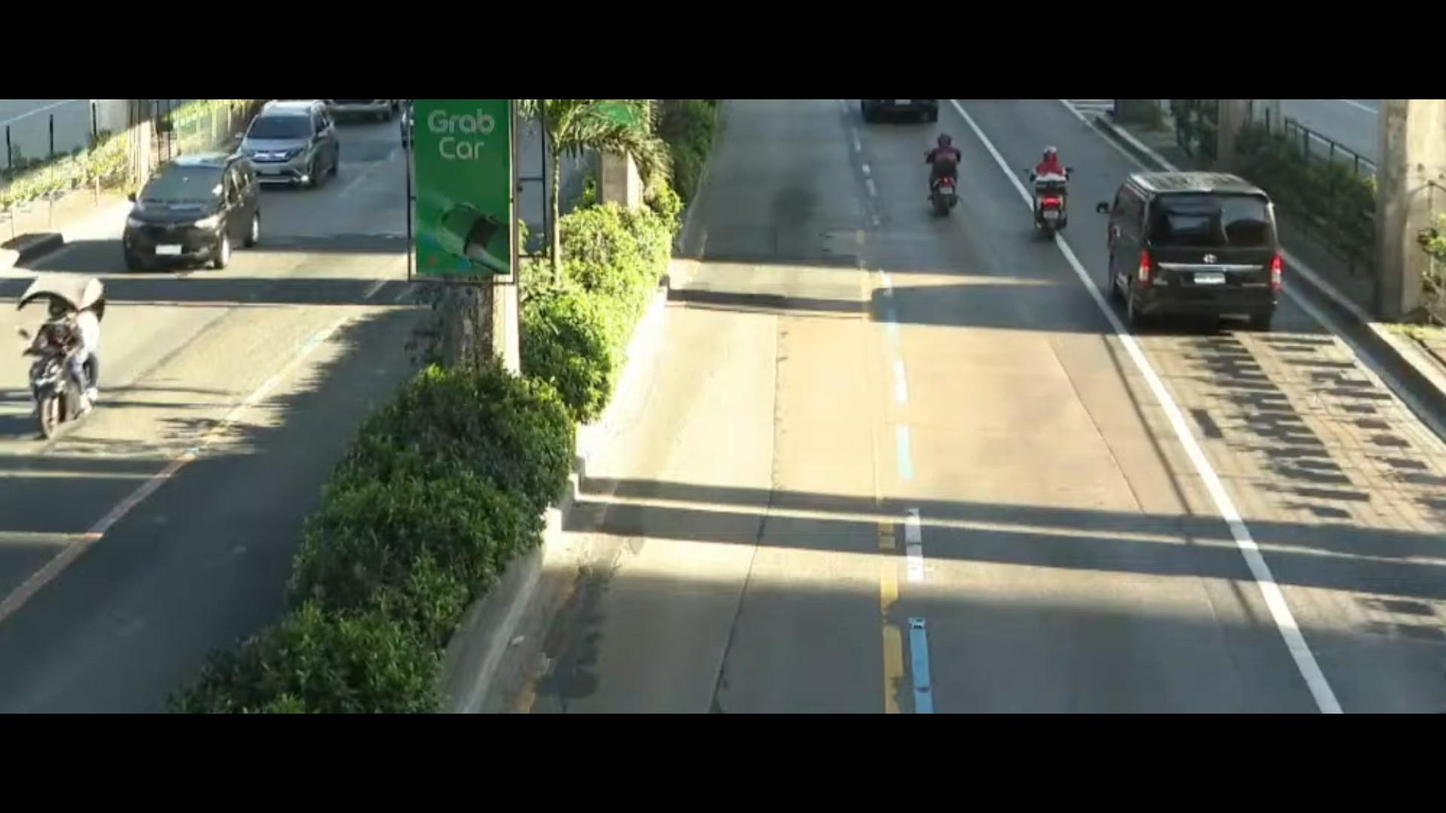Motorcycle: (13, 276, 105, 432), (1010, 136, 1083, 244), (902, 130, 978, 229)
SUV: (108, 142, 279, 277), (241, 89, 342, 185)
Van: (1080, 164, 1284, 336)
